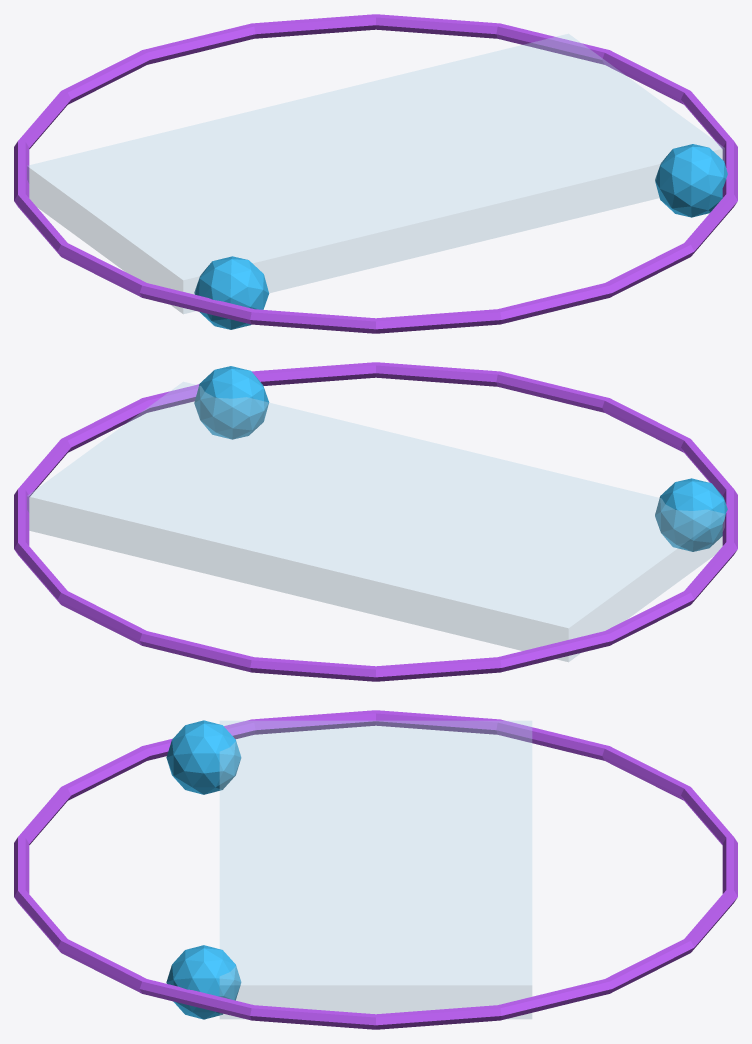
File: anti_gravity_barricade.glb
3 views of the same model, one above another, from view 1: azimuth 30°, elevation 25°; view 2: azimuth 150°, elevation 25°; view 3: azimuth 270°, elevation 25° (orthographic).
Visible parts, largest first — view 1: panel, field, coreR, coreL; view 2: panel, field, coreR, coreL; view 3: panel, field, coreL, coreR.
Part boxes in pixels (<box>): panel: <box>27,34,724,313</box>; field: <box>14,14,737,333</box>; coreR: <box>655,144,727,217</box>; coreL: <box>194,256,269,329</box>; panel: <box>27,382,724,661</box>; field: <box>14,362,737,681</box>; coreR: <box>194,366,269,439</box>; coreL: <box>655,478,727,551</box>; panel: <box>220,721,531,1018</box>; field: <box>14,710,737,1029</box>; coreL: <box>166,720,241,794</box>; coreR: <box>166,945,241,1019</box>.
Size of the model in its own units: 2.35 by 0.24 by 2.31.
